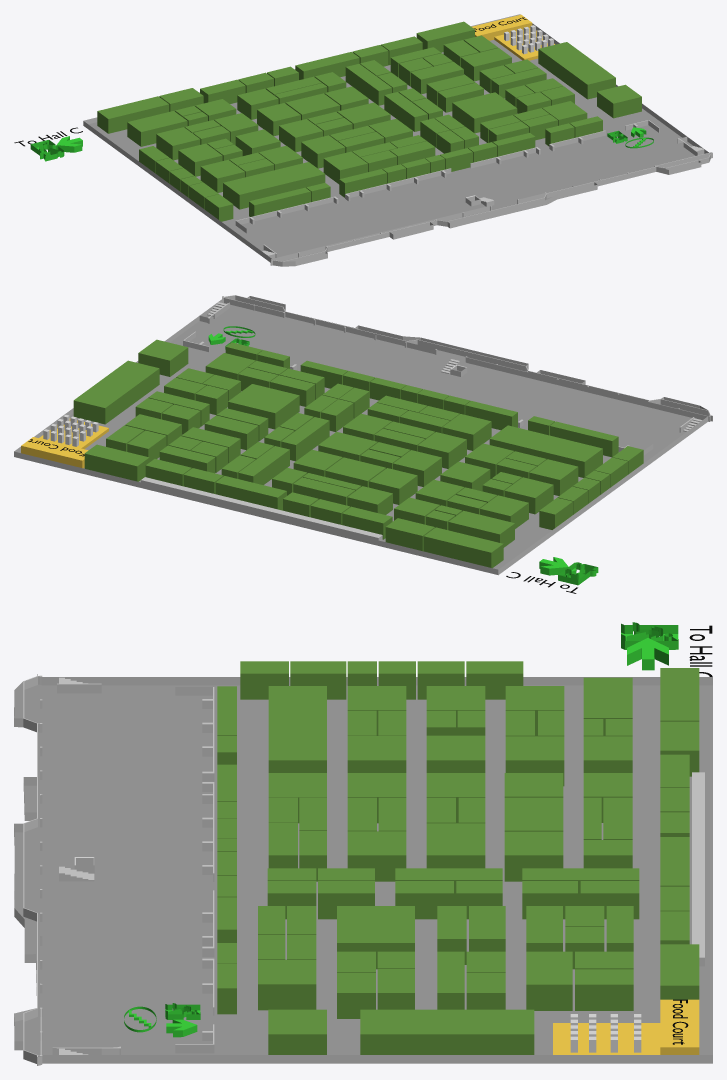
File: Hall_B_2.glb
3 views of the same model, one above another, from view 1: azimuth 30°, elevation 25°; view 2: azimuth 150°, elevation 25°; view 3: azimuth 270°, elevation 25° (orthographic). The views are drawn at different scales.
Parts seen in each view (by area): view 1: Plane, Building_curve_, Background_curve_, BOOTHLAYER_curve_.B-6030, BOOTHLAYER_curve_.B-3190, BOOTHLAYER_curve_.B-5140, BOOTHLAYER_curve_.B-1000, 0_curve_, BOOTHLAYER_curve_.B-2000, BOOTHLAYER_curve_.B-6180, BOOTHLAYER_curve_.B-2100, BOOTHLAYER_curve_.B-1100 (+61 smaller); view 2: Plane, Building_curve_, Background_curve_, BOOTHLAYER_curve_.B-3190, BOOTHLAYER_curve_.B-6030, BOOTHLAYER_curve_.B-1000, BOOTHLAYER_curve_.B-5140, 0_curve_, BOOTHLAYER_curve_.B-1100, BOOTHLAYER_curve_.B-2000, BOOTHLAYER_curve_.B-1060, BOOTHLAYER_curve_.B-6180 (+62 smaller); view 3: Plane, Building_curve_, BOOTHLAYER_curve_.B-3190, Background_curve_, BOOTHLAYER_curve_.B-6030, 0_curve_, BOOTHLAYER_curve_.B-5140, BOOTHLAYER_curve_.B-6170, BOOTHLAYER_curve_.B-2200, BOOTHLAYER_curve_.B-4095, BOOTHLAYER_curve_.B-6180, BOOTHLAYER_curve_.B-5080 (+82 smaller).
Part boxes in pixels (x1=…): Plane: x1=88, y1=40, x2=695, y2=261; Building_curve_: x1=83, y1=14, x2=712, y2=265; Background_curve_: x1=83, y1=41, x2=712, y2=266; BOOTHLAYER_curve_.B-6030: x1=223, y1=162, x2=325, y2=209; BOOTHLAYER_curve_.B-3190: x1=538, y1=42, x2=615, y2=99; BOOTHLAYER_curve_.B-5140: x1=452, y1=92, x2=517, y2=133; BOOTHLAYER_curve_.B-1000: x1=97, y1=96, x2=169, y2=133; 0_curve_: x1=471, y1=14, x2=554, y2=60; BOOTHLAYER_curve_.B-2000: x1=127, y1=111, x2=187, y2=146; BOOTHLAYER_curve_.B-6180: x1=597, y1=84, x2=641, y2=118; BOOTHLAYER_curve_.B-2100: x1=345, y1=64, x2=392, y2=105; BOOTHLAYER_curve_.B-1100: x1=416, y1=21, x2=474, y2=52; Plane: x1=19, y1=303, x2=707, y2=569; Building_curve_: x1=14, y1=295, x2=712, y2=540; Background_curve_: x1=14, y1=296, x2=712, y2=575; BOOTHLAYER_curve_.B-3190: x1=73, y1=360, x2=159, y2=424; BOOTHLAYER_curve_.B-6030: x1=489, y1=425, x2=602, y2=477; BOOTHLAYER_curve_.B-1000: x1=423, y1=527, x2=503, y2=568; BOOTHLAYER_curve_.B-5140: x1=228, y1=384, x2=299, y2=429; 0_curve_: x1=21, y1=418, x2=108, y2=468; BOOTHLAYER_curve_.B-1100: x1=84, y1=444, x2=149, y2=481; BOOTHLAYER_curve_.B-2000: x1=448, y1=510, x2=514, y2=547; BOOTHLAYER_curve_.B-1060: x1=215, y1=476, x2=286, y2=510; BOOTHLAYER_curve_.B-6180: x1=138, y1=339, x2=188, y2=376; Plane: x1=14, y1=684, x2=712, y2=1055; Building_curve_: x1=23, y1=674, x2=704, y2=1063; BOOTHLAYER_curve_.B-3190: x1=360, y1=1009, x2=534, y2=1054; Background_curve_: x1=14, y1=674, x2=712, y2=1065; BOOTHLAYER_curve_.B-6030: x1=268, y1=686, x2=326, y2=772; 0_curve_: x1=553, y1=999, x2=699, y2=1054; BOOTHLAYER_curve_.B-5140: x1=337, y1=906, x2=414, y2=969; BOOTHLAYER_curve_.B-6170: x1=258, y1=959, x2=316, y2=1010; BOOTHLAYER_curve_.B-2200: x1=526, y1=951, x2=572, y2=1010; BOOTHLAYER_curve_.B-4095: x1=426, y1=823, x2=485, y2=868; BOOTHLAYER_curve_.B-6180: x1=268, y1=1009, x2=326, y2=1054; BOOTHLAYER_curve_.B-5080: x1=347, y1=831, x2=406, y2=881.
Bounding box in the file's own units: 107 × 3.24 × 71.65.
